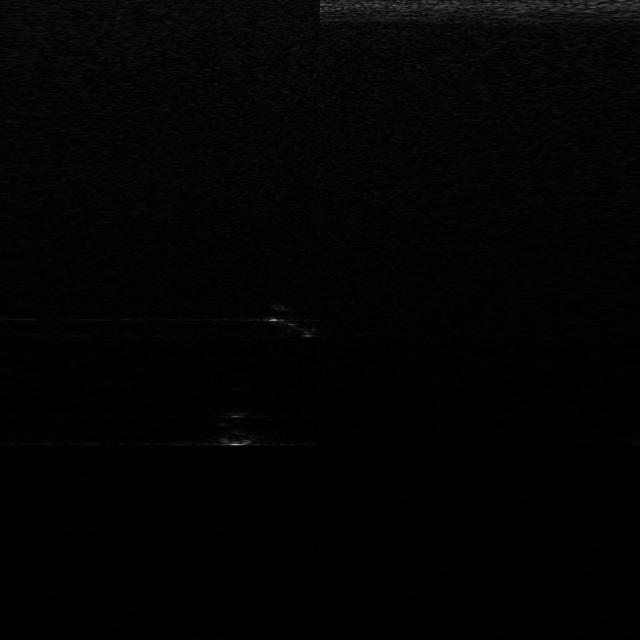ball: (210, 410, 264, 446)
tyre: (264, 302, 322, 338)
